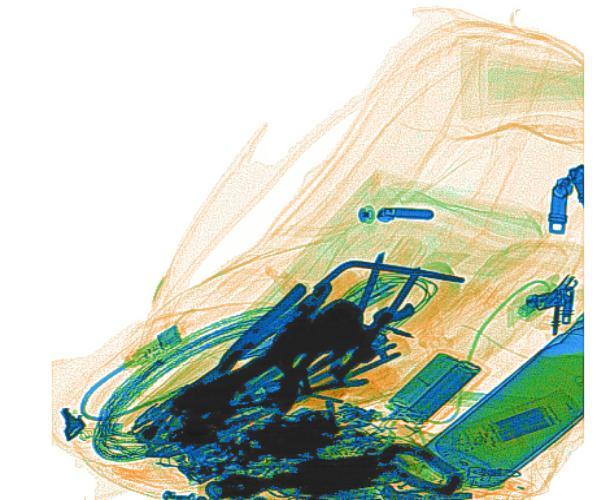battery: (386, 349, 482, 422), (489, 401, 563, 447)
